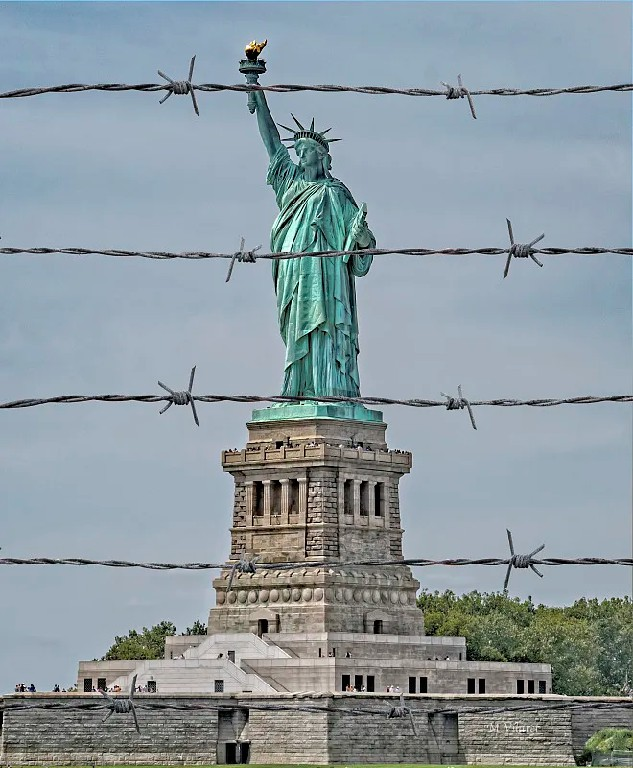SL: (206, 37, 426, 635)
